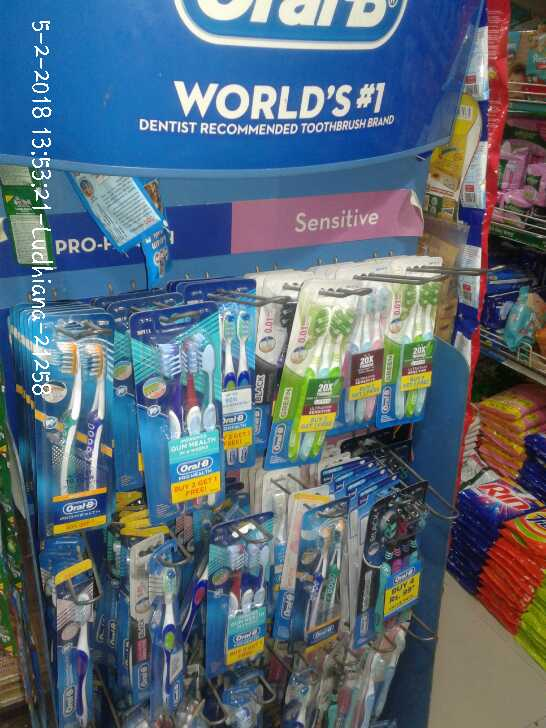oralb: (30, 331, 111, 526), (148, 322, 217, 507), (294, 293, 352, 466), (370, 499, 436, 641), (127, 549, 185, 709), (213, 529, 278, 668), (392, 280, 442, 430), (52, 589, 102, 728), (302, 516, 348, 653), (348, 285, 383, 427), (225, 301, 253, 462)
